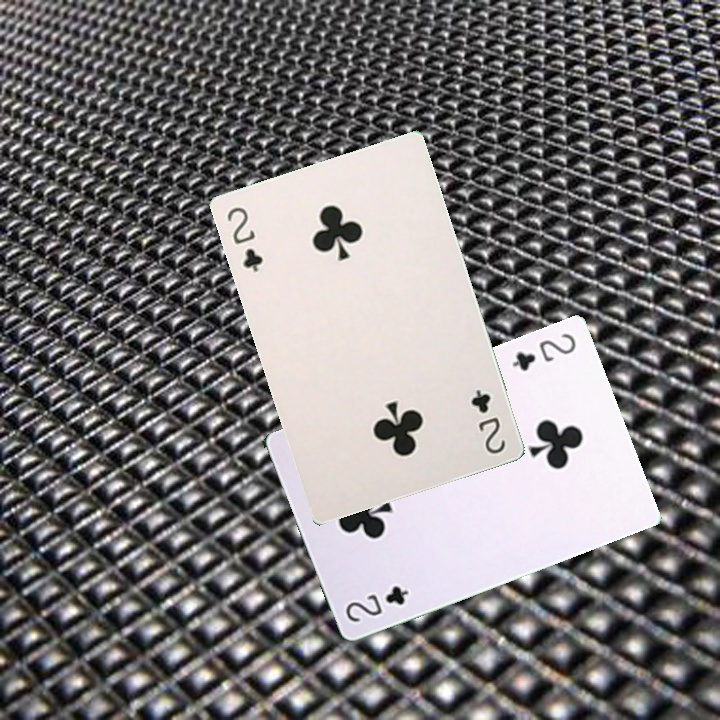2c: (222, 202, 266, 275), (508, 329, 579, 374), (341, 581, 411, 625), (466, 385, 508, 457)
